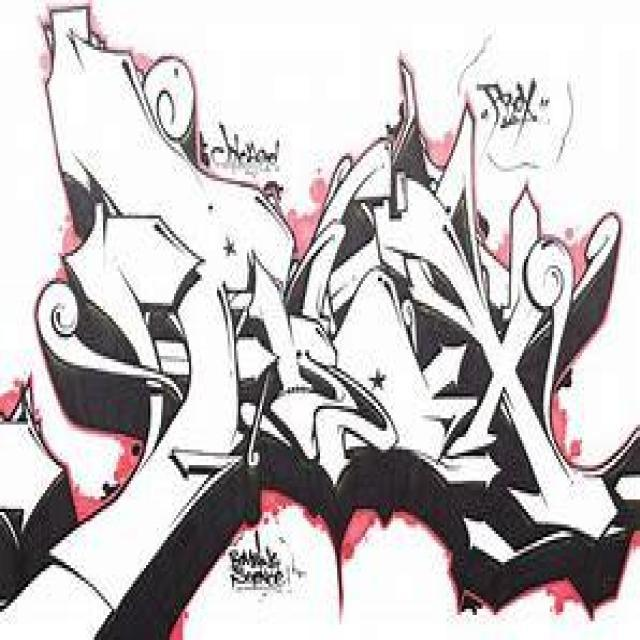nonspitting: (0, 0, 640, 640), (470, 74, 552, 136), (206, 118, 282, 170), (226, 540, 304, 589)
